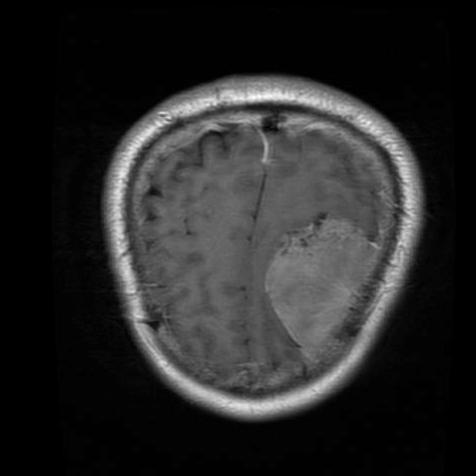Tumour-Pituitary: (252, 195, 391, 366)
